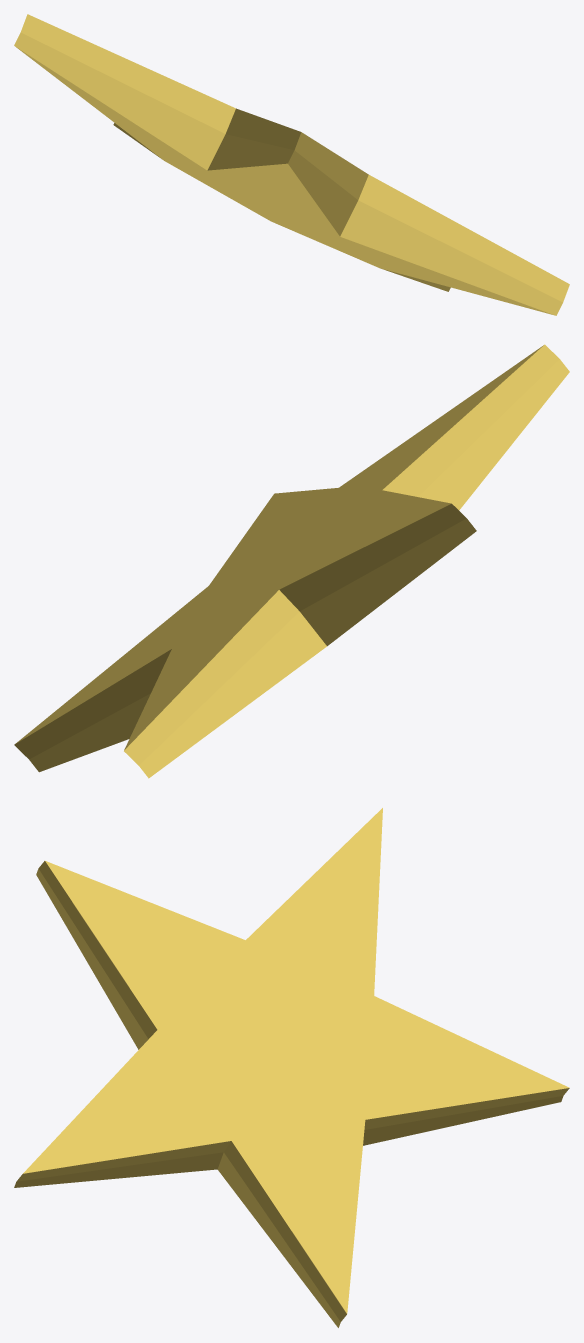
The model's file is star.glb.
3 renders of one model, top to bottom at view 1: azimuth 30°, elevation 25°; view 2: azimuth 150°, elevation 25°; view 3: azimuth 270°, elevation 25°, orthographic. The views are drawn at different scales.
Parts seen in each view (by area): view 1: Cylinder; view 2: Cylinder; view 3: Cylinder.
Boxes of the visible parts, x1=… form: Cylinder: x1=14, y1=14, x2=569, y2=315; Cylinder: x1=14, y1=344, x2=569, y2=778; Cylinder: x1=14, y1=808, x2=569, y2=1327.
Bounding box in the file's own units: 2.88 × 2.27 × 3.39.
